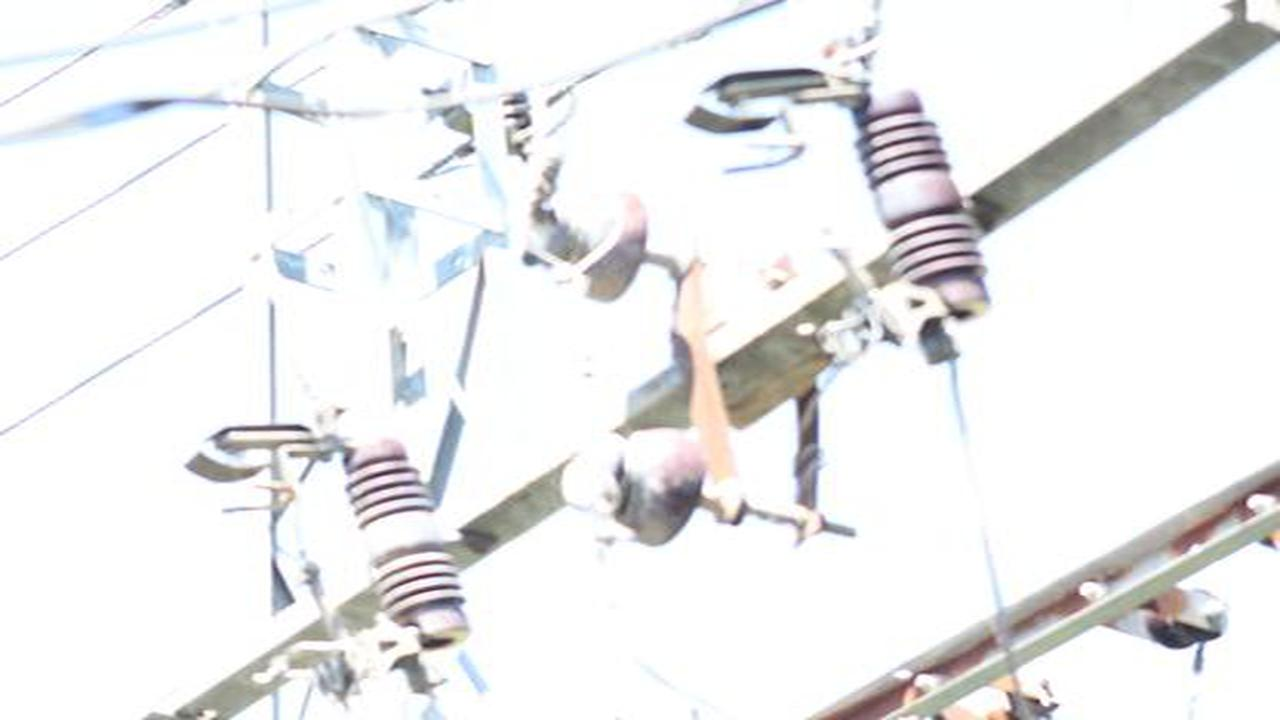insulator_pin: (555, 416, 719, 553), (508, 173, 656, 305)
